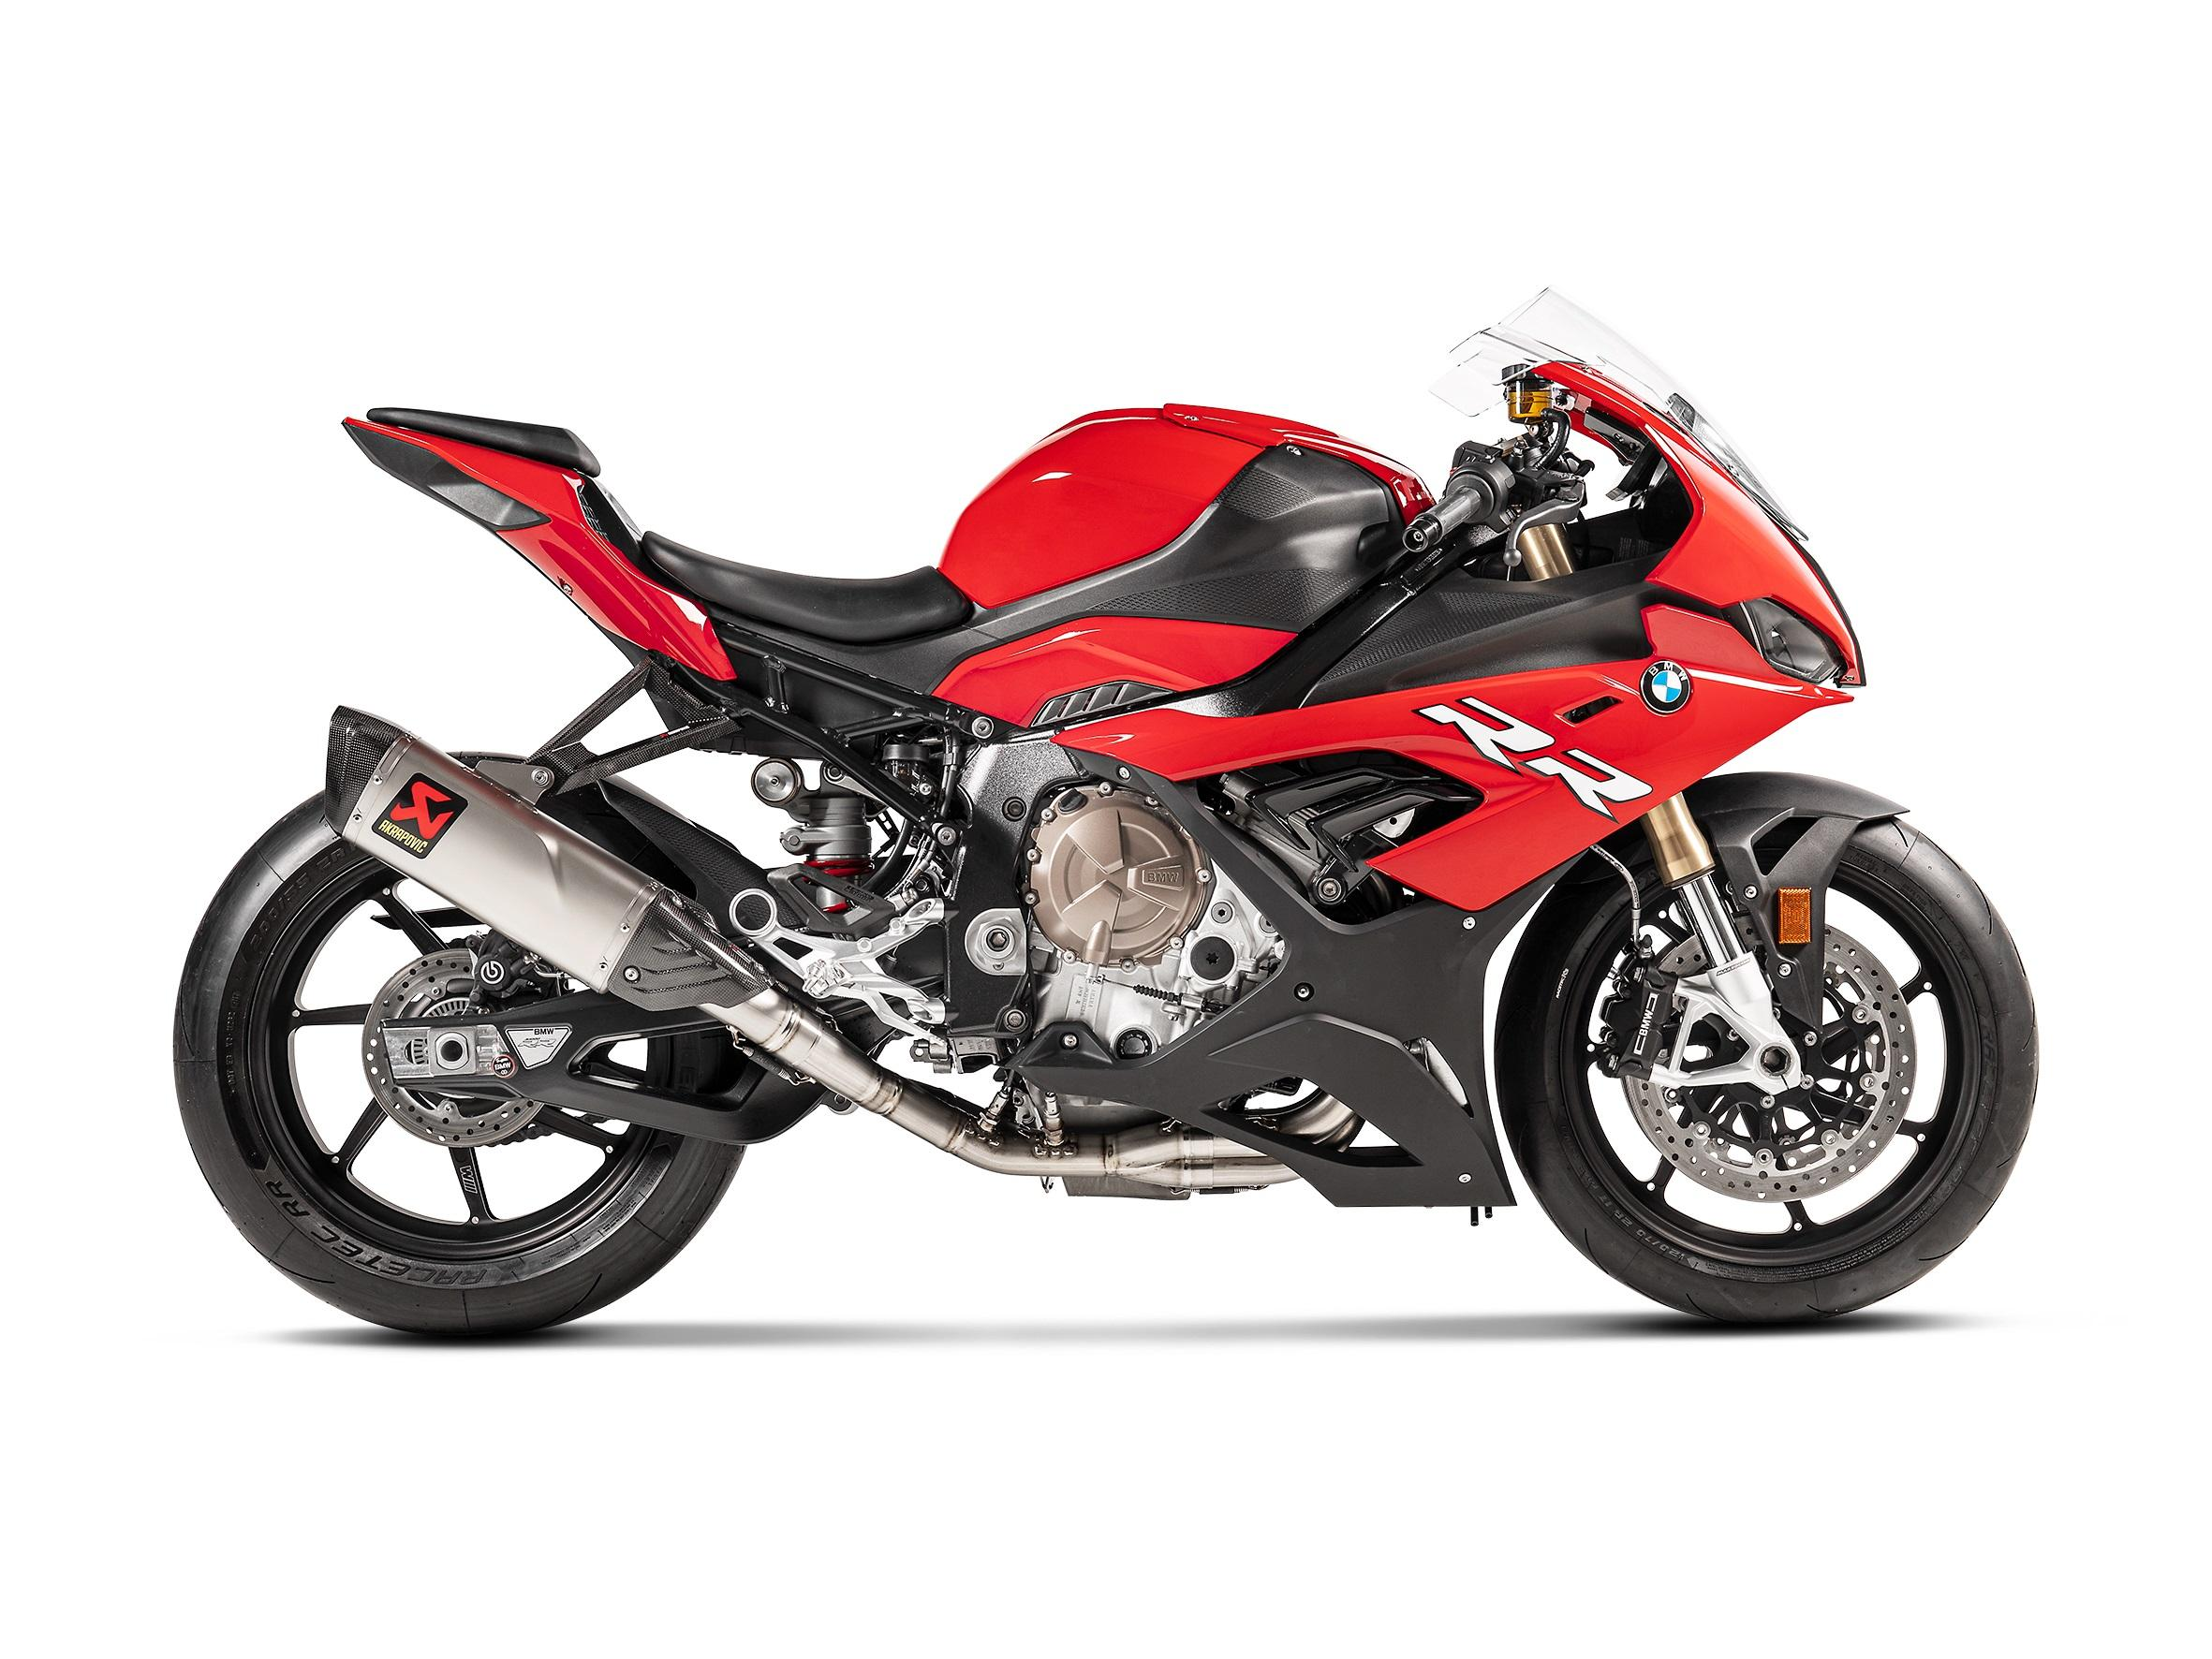engine-chasis: (727, 523, 1590, 1227), (750, 758, 891, 887), (802, 877, 851, 915)
exhaust: (322, 704, 1304, 1197), (1229, 1086, 1367, 1154)
frontside: (1051, 284, 1910, 1096)
handlebar: (1401, 371, 1595, 566), (1605, 439, 1677, 511)
motorbike: (173, 291, 2039, 1335)
rearside: (340, 416, 1016, 1054), (380, 988, 858, 1147)
seat: (641, 530, 969, 643), (366, 406, 601, 477)
tank: (936, 403, 1438, 643)
wheel: (173, 789, 748, 1338), (1492, 816, 2039, 1326), (1590, 843, 1652, 953)
